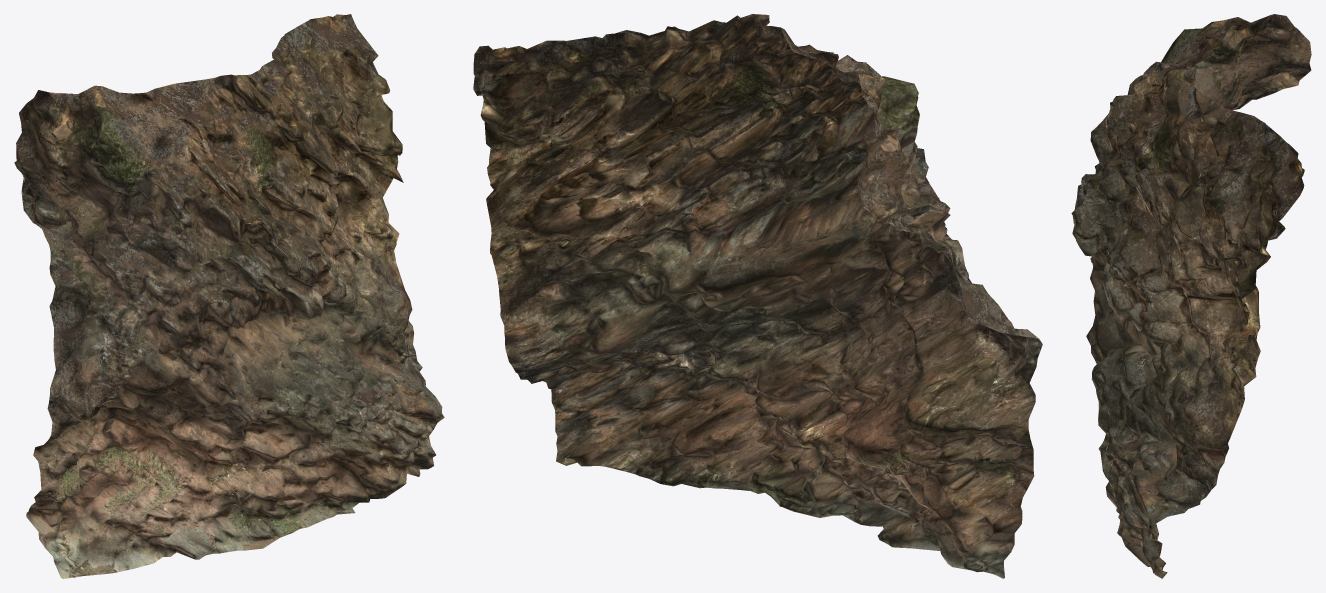
The model's file is suon-nui.glb.
3 renders of one model, left to right at view 1: azimuth 30°, elevation 25°; view 2: azimuth 150°, elevation 25°; view 3: azimuth 270°, elevation 25°, orthographic. The views are drawn at different scales.
Visible parts, largest first — view 1: mountainside; view 2: mountainside; view 3: mountainside.
Part boxes in pixels (bbox=[...]): mountainside: bbox=[14, 14, 444, 578]; mountainside: bbox=[473, 14, 1042, 578]; mountainside: bbox=[1071, 14, 1311, 578].
Size of the model in its own units: 0.9698 by 0.9998 by 0.4954.
Materials: 1 (1 with a texture image).
